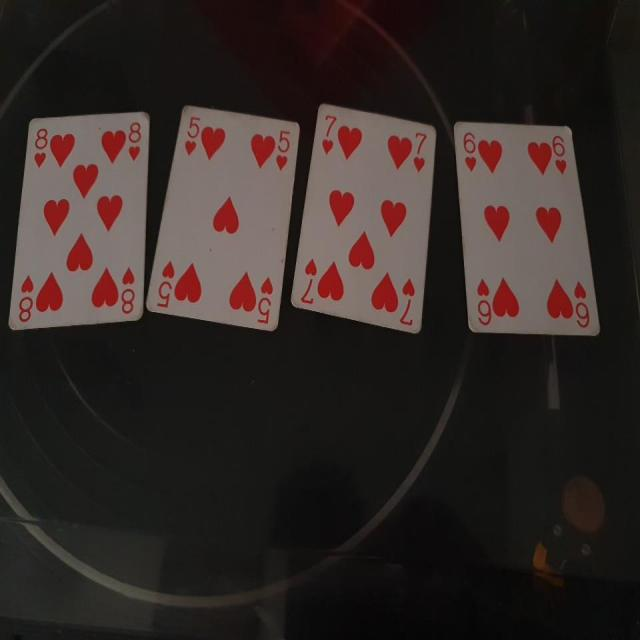5 Hearts: (149, 86, 300, 337)
6 Hearts: (447, 108, 606, 340)
7 Hearts: (294, 98, 443, 335)
8 Hearts: (10, 107, 156, 329)
